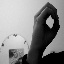o: (32, 1, 62, 38)
